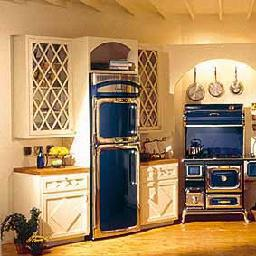Electrodomestico: (88, 73, 140, 233), (184, 105, 249, 226)
